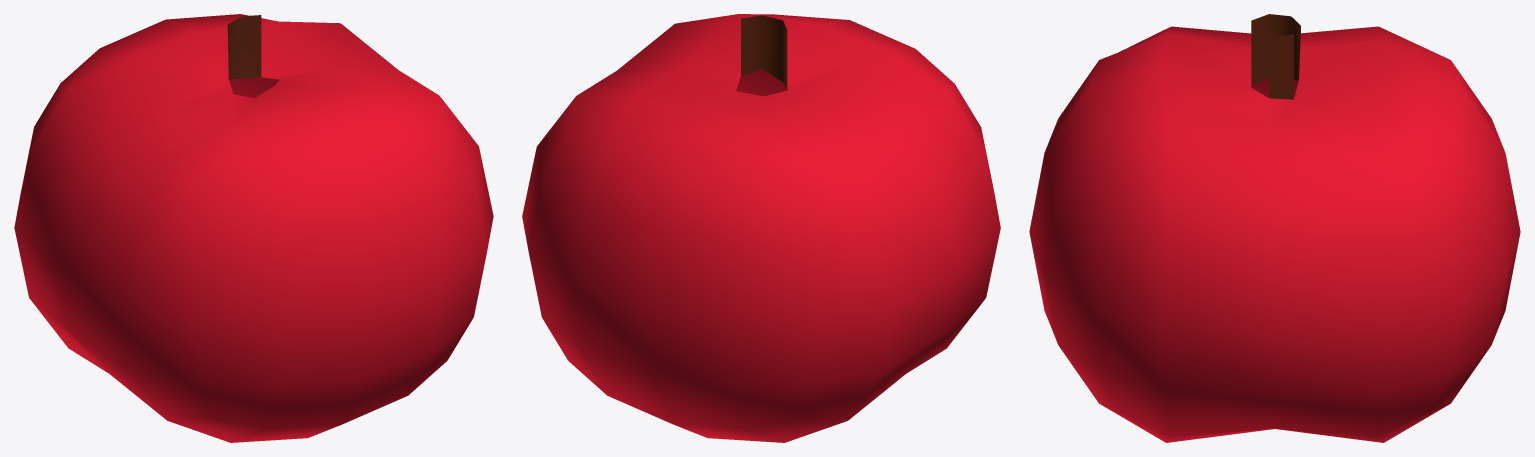
The model's file is AppleV2.fbx.
3 renders of one model, left to right at view 1: azimuth 30°, elevation 25°; view 2: azimuth 150°, elevation 25°; view 3: azimuth 270°, elevation 25°, orthographic. The views are drawn at different scales.
Parts seen in each view (by area): view 1: Cube; view 2: Cube; view 3: Cube.
Part boxes in pixels (bbox=[...]): Cube: bbox=[14, 14, 493, 442]; Cube: bbox=[522, 14, 1000, 442]; Cube: bbox=[1029, 14, 1520, 442].
Size of the model in its own units: 185 by 165 by 188.
